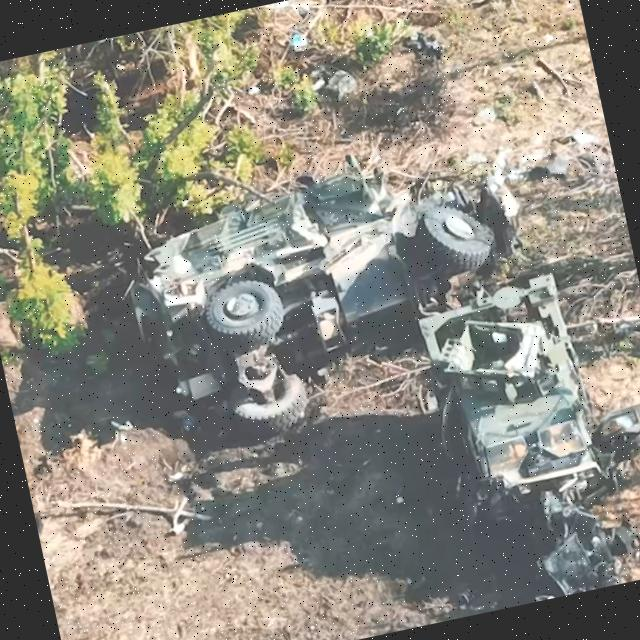Destroyed: (103, 138, 513, 439), (398, 269, 640, 609)
